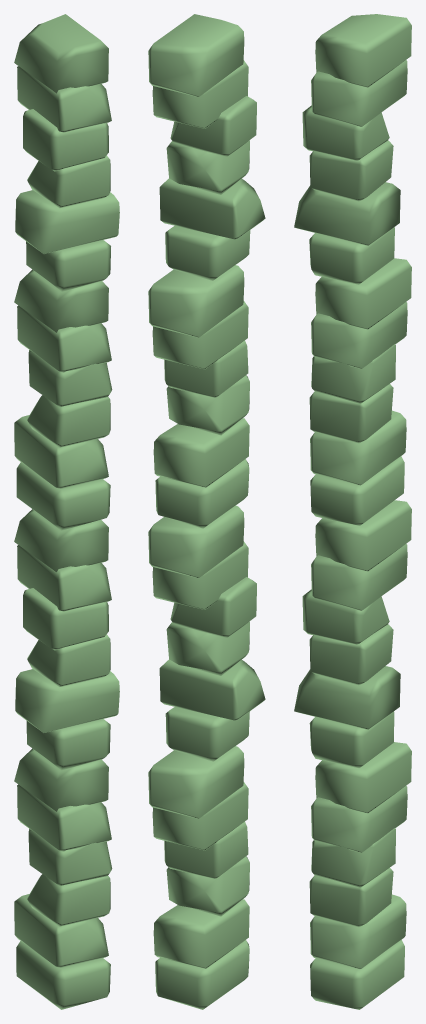
Rendered from Slab_Wall_01_x2_Lod0.fbx.
The picture shows the model from 3 angles, left to right: view 1: azimuth 30°, elevation 25°; view 2: azimuth 150°, elevation 25°; view 3: azimuth 330°, elevation 25°; orthographic projection.
Visible parts, largest first — view 1: Slab_Wall_01_x2_Lod0; view 2: Slab_Wall_01_x2_Lod0; view 3: Slab_Wall_01_x2_Lod0.
Part boxes in pixels (<box>): Slab_Wall_01_x2_Lod0: <box>14,14,119,1009</box>; Slab_Wall_01_x2_Lod0: <box>148,14,265,1009</box>; Slab_Wall_01_x2_Lod0: <box>294,14,411,1009</box>.
Bounding box in the file's own units: 51.24 × 598 × 58.3.
